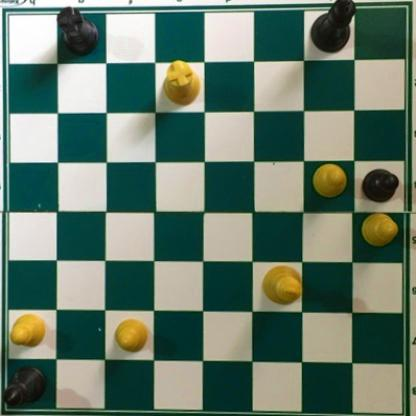black-bishop: (1, 363, 49, 410)
black-king: (310, 1, 358, 57)
black-pawn: (360, 167, 399, 203)
black-rook: (51, 1, 99, 57)
white-king: (261, 263, 303, 306)
white-pawn: (7, 311, 48, 349), (359, 212, 399, 248), (113, 315, 150, 353), (310, 162, 348, 199)
white-rook: (161, 59, 201, 107)
